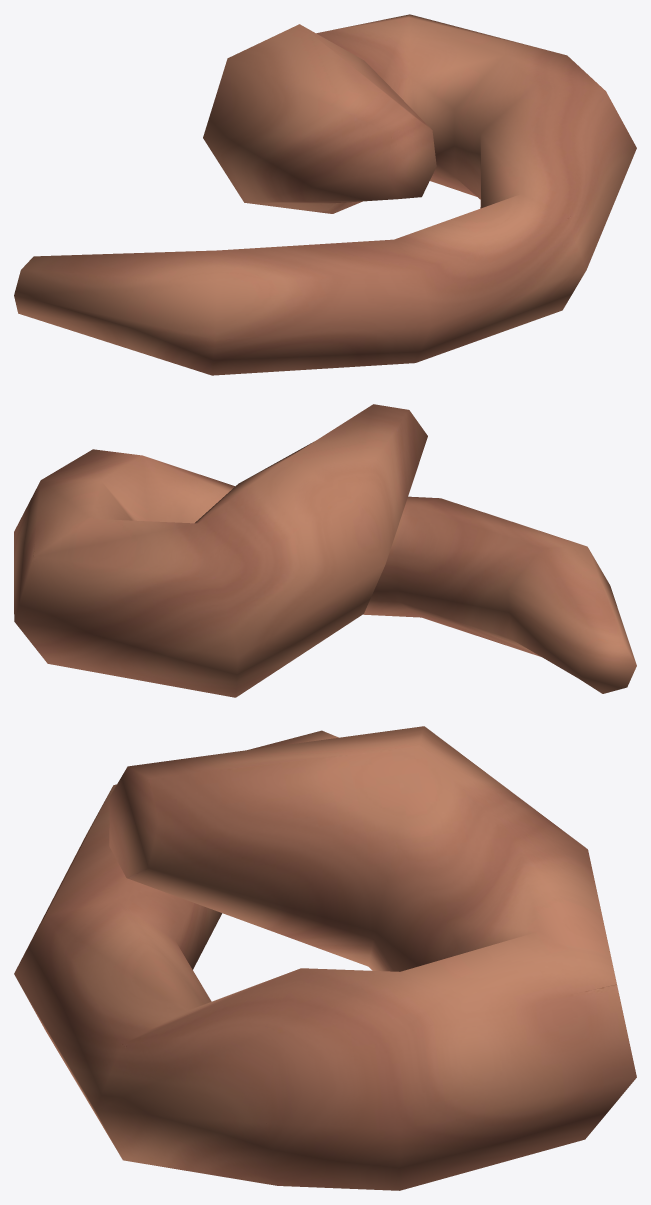
Rendered from isaw 3.fbx.
3 views of the same model, one above another, from view 1: azimuth 30°, elevation 25°; view 2: azimuth 150°, elevation 25°; view 3: azimuth 270°, elevation 25° (orthographic). The views are drawn at different scales.
Parts seen in each view (by area): view 1: isaw 3; view 2: isaw 3; view 3: isaw 3.
Boxes of the visible parts, box(x1,y1,x2,y2) form: isaw 3: box(14, 14, 636, 375); isaw 3: box(14, 404, 636, 697); isaw 3: box(14, 726, 636, 1190).
Bounding box in the file's own units: 22.19 × 12.96 × 33.22.
1 material, 1 textured.
